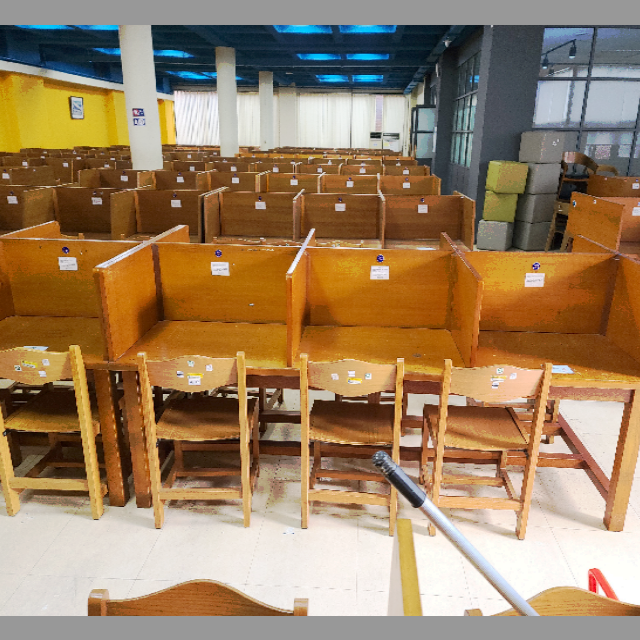empty: (109, 239, 290, 435), (295, 227, 472, 425), (479, 230, 637, 423)
